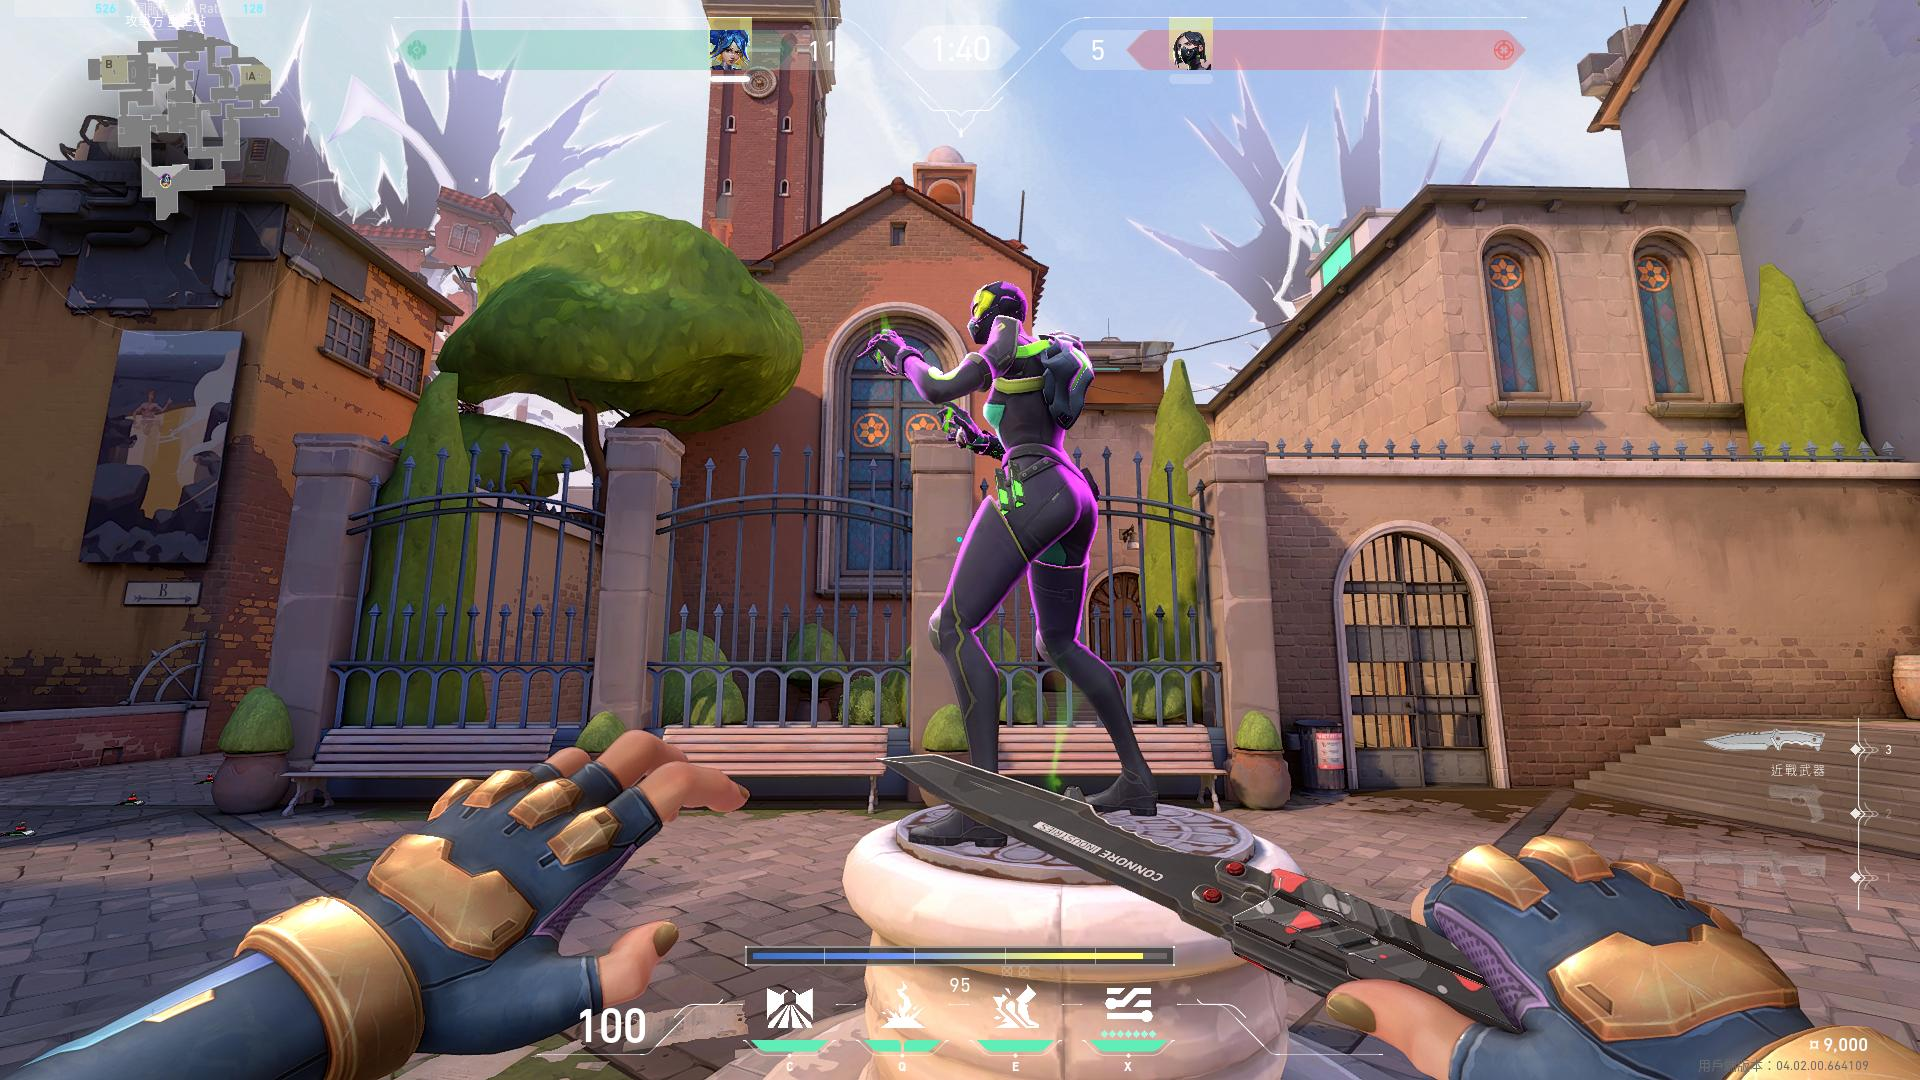enemyBody: (997, 375, 1071, 475)
enemyHead: (978, 295, 1014, 338)
